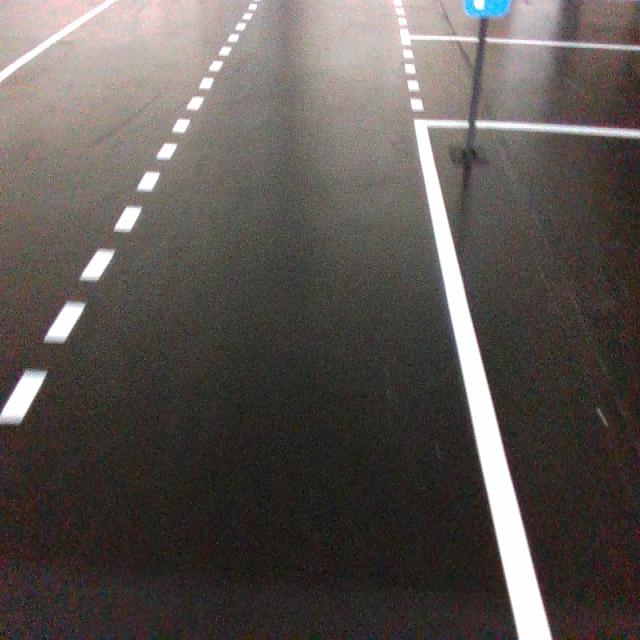parking-sign: (463, 0, 511, 19)
